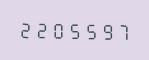five: (65, 19, 80, 40), (81, 20, 96, 40)
nine: (97, 20, 112, 40)
seven: (113, 20, 128, 40)
two: (17, 19, 32, 39), (33, 19, 48, 39)
zero: (49, 19, 64, 39)
